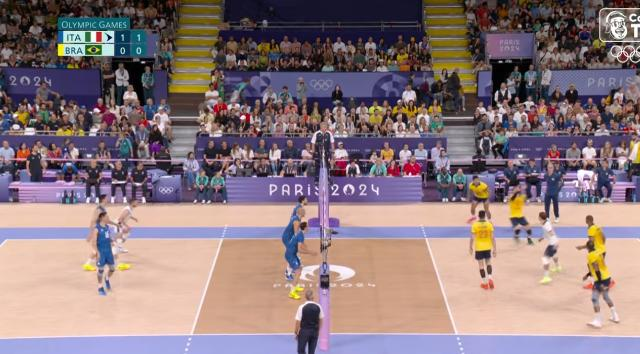Levantador: (510, 183, 530, 239)
Libero: (538, 213, 560, 283), (114, 196, 142, 242)
